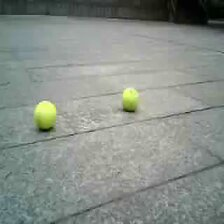tennis: (34, 102, 57, 129), (122, 88, 140, 112)
